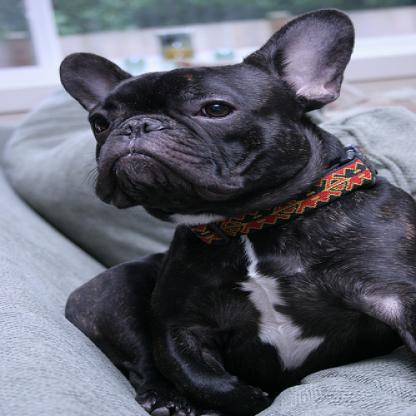French_bulldog: (55, 6, 412, 413)
